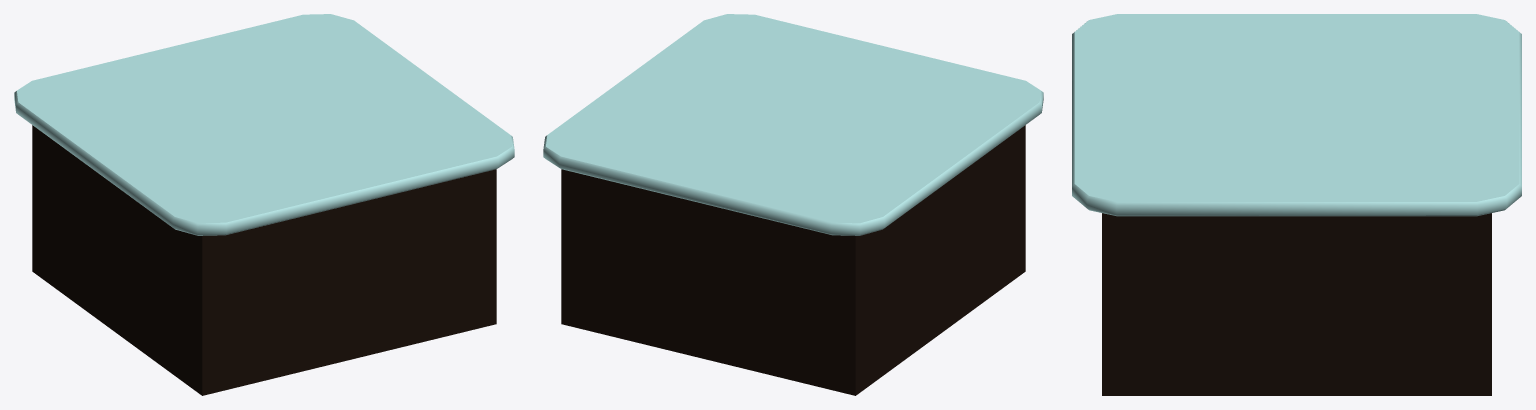
The model's file is Counter 2.obj.
The picture shows the model from 3 angles, left to right: view 1: azimuth 30°, elevation 25°; view 2: azimuth 150°, elevation 25°; view 3: azimuth 270°, elevation 25°; orthographic projection. The views are drawn at different scales.
Parts seen in each view (by area): view 1: Cube, Cube.001; view 2: Cube, Cube.001; view 3: Cube.001, Cube.
Part boxes in pixels (x1=…): Cube: x1=32, y1=125, x2=496, y2=395; Cube.001: x1=14, y1=14, x2=514, y2=235; Cube: x1=561, y1=125, x2=1025, y2=395; Cube.001: x1=543, y1=14, x2=1043, y2=235; Cube.001: x1=1072, y1=14, x2=1521, y2=216; Cube: x1=1102, y1=213, x2=1491, y2=395.
Size of the model in its own units: 2.31 by 1.16 by 2.31.
